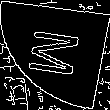M_E: (23, 28, 87, 82)
